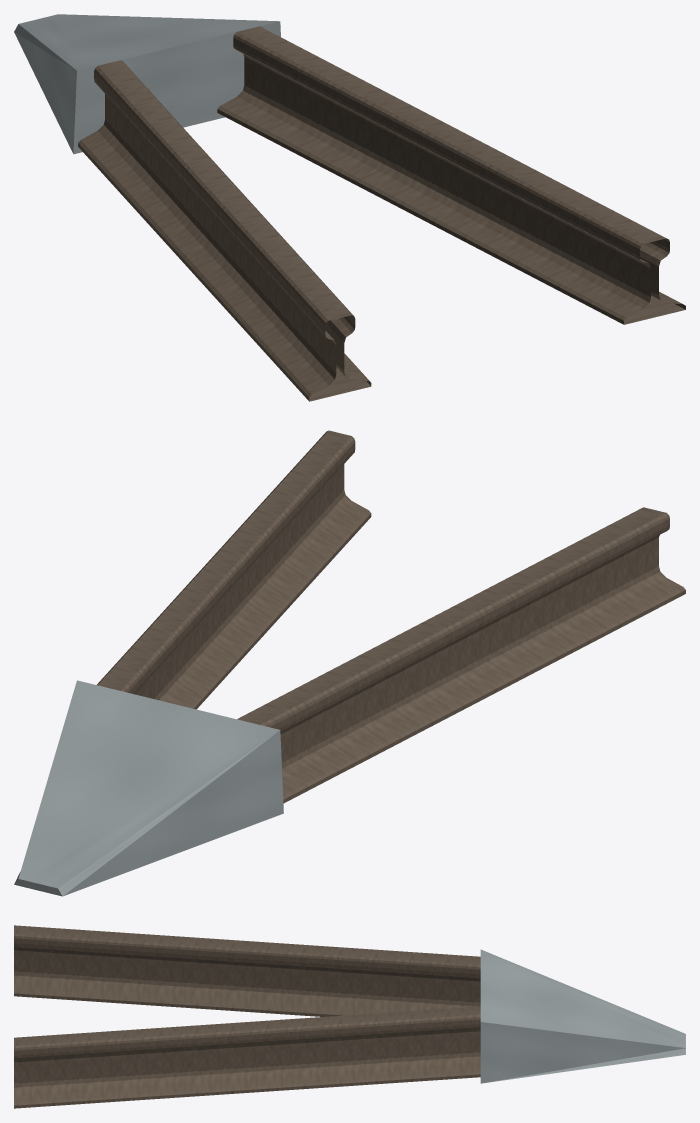
The model's file is center_guard_endpoint_new.obj.
3 renders of one model, top to bottom at view 1: azimuth 30°, elevation 25°; view 2: azimuth 150°, elevation 25°; view 3: azimuth 270°, elevation 25°, orthographic. The views are drawn at different scales.
Parts seen in each view (by area): view 1: terminal_right, terminal_left, terminal_nose; view 2: terminal_left, terminal_nose, terminal_right; view 3: terminal_right, terminal_left, terminal_nose.
Part boxes in pixels (<box>): terminal_right: <box>217,26,685,324</box>; terminal_left: <box>78,60,371,401</box>; terminal_nose: <box>14,14,280,154</box>; terminal_left: <box>237,507,685,803</box>; terminal_nose: <box>14,680,283,896</box>; terminal_right: <box>97,430,371,709</box>; terminal_right: <box>14,1006,480,1108</box>; terminal_left: <box>14,925,480,1016</box>; terminal_nose: <box>480,949,685,1083</box>.
Size of the model in its own units: 0.852 by 0.1789 by 1.8.
